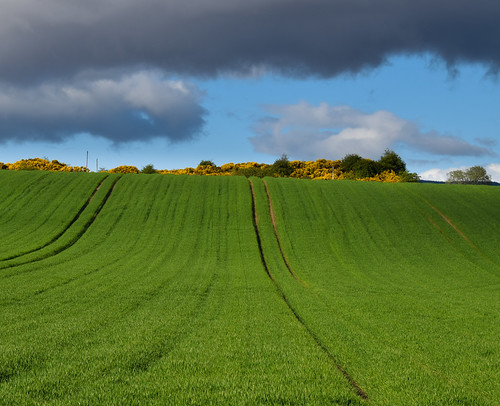grass: (4, 173, 500, 406)
sky: (1, 1, 496, 165)
vegetation: (1, 145, 420, 184)
